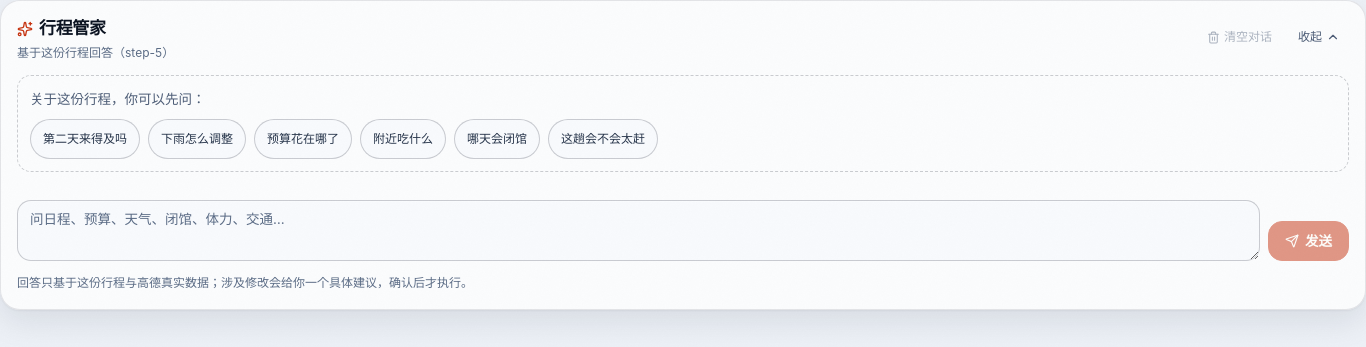
Test: PlanCopilot › 服务端 429：直接展示 error 文案，不追加助手消息
The image size is (1366, 347).
Type "预算够吗" into the text box named "向行程管家提问" at [638, 231], box [17,200,1260,261]
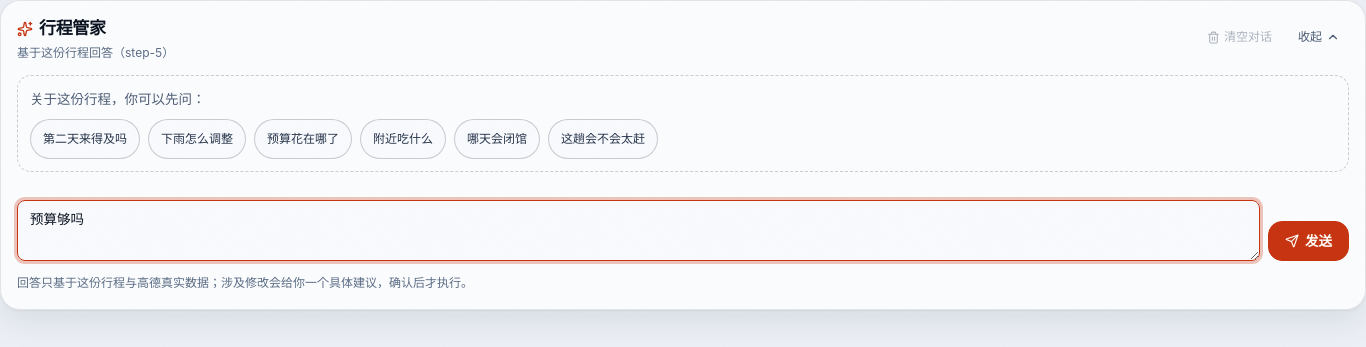
Click the button "发送" at [1308, 241], box [1268,221,1349,261]
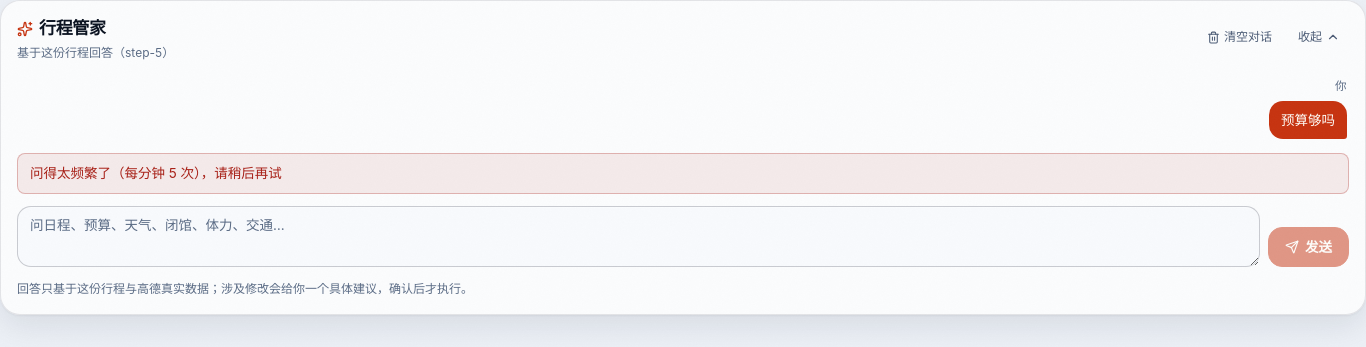
Expected: the text box named "向行程管家提问" is enabled, [17,206,1260,267]
Expected: the message reads "问得太频繁了（每分钟 5 次），请稍后再试", [30,165,282,181]
